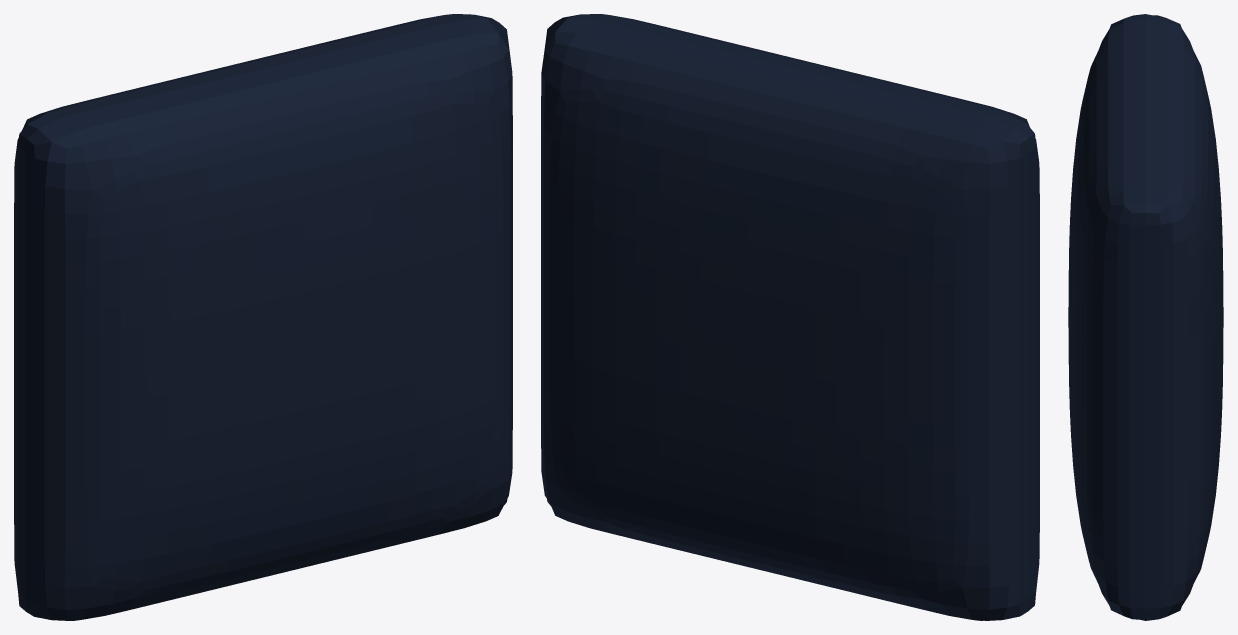
File: LIT-CUS-std.glb
The picture shows the model from 3 angles, left to right: view 1: azimuth 30°, elevation 25°; view 2: azimuth 150°, elevation 25°; view 3: azimuth 270°, elevation 25°; orthographic projection. The views are drawn at different scales.
Parts seen in each view (by area): view 1: pillow:pbr; view 2: pillow:pbr; view 3: pillow:pbr.
Part boxes in pixels (box(x1,y1,x2,y2)): pillow:pbr: box(14, 14, 512, 620); pillow:pbr: box(541, 14, 1039, 620); pillow:pbr: box(1068, 14, 1223, 620).
Size of the model in its own units: 0.4423 by 0.4423 by 0.1453.
